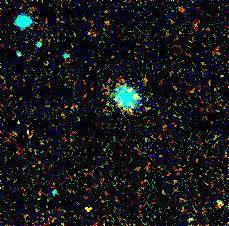star: (73, 194, 103, 224)
